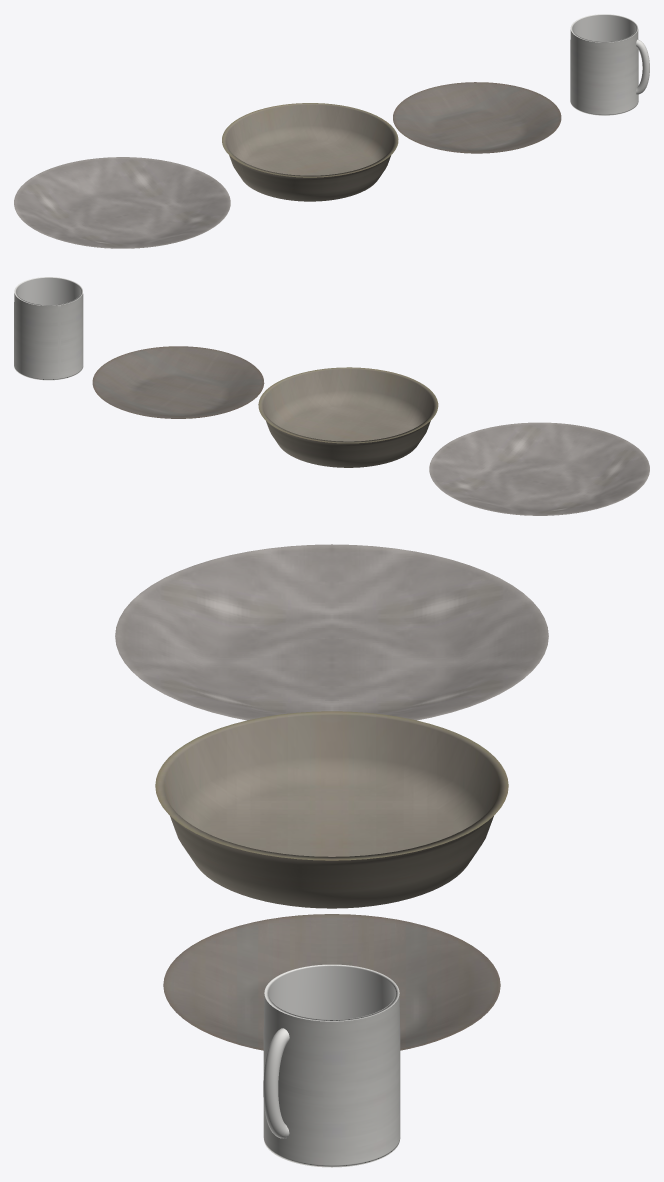
The model's file is BLC-12.glb.
The picture shows the model from 3 angles, top to bottom: view 1: azimuth 30°, elevation 25°; view 2: azimuth 150°, elevation 25°; view 3: azimuth 270°, elevation 25°; orthographic projection. The views are drawn at different scales.
Size of the model in its own units: 0.8707 by 0.1 by 0.27.
9 materials, 7 textured.
